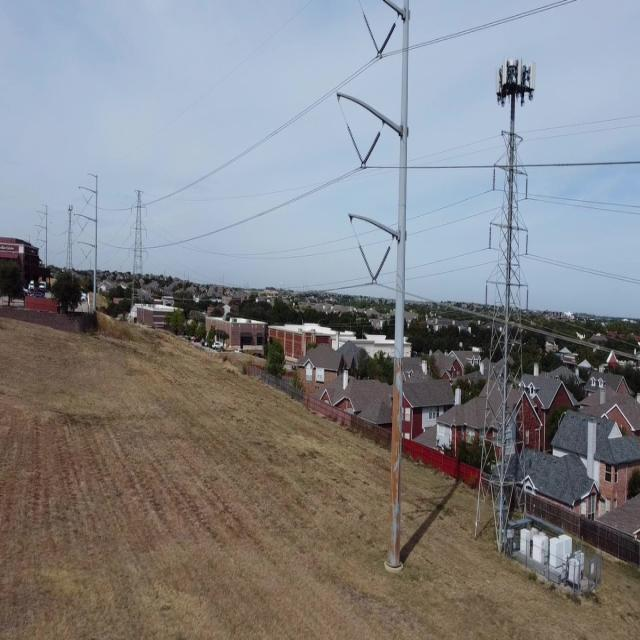杆塔: (473, 124, 539, 556), (122, 177, 152, 331), (61, 189, 82, 276)
正常绝缘子: (373, 15, 400, 66), (343, 114, 367, 170), (360, 8, 384, 62), (359, 124, 385, 173), (369, 241, 395, 290), (354, 238, 379, 288), (486, 162, 499, 197), (482, 223, 495, 256), (480, 278, 490, 320), (520, 170, 531, 208), (522, 226, 534, 259), (523, 283, 532, 318)
